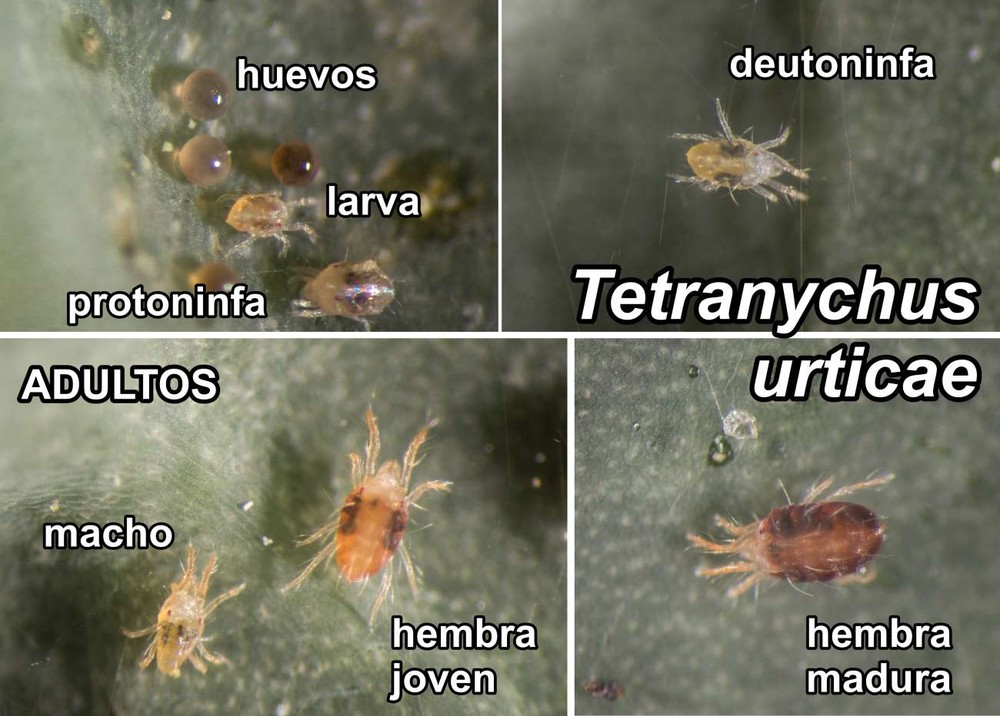Aracnido Rojo: (282, 395, 448, 617), (678, 453, 912, 606), (665, 102, 821, 221), (136, 543, 243, 690), (277, 246, 409, 331)
